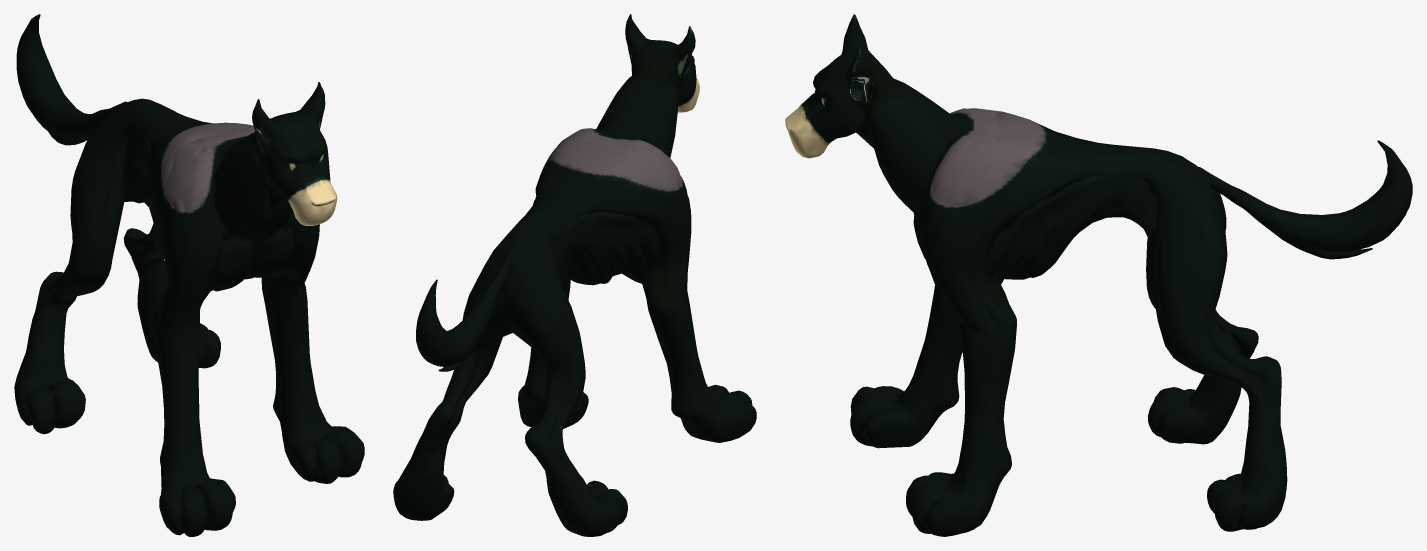
Rendered from body.glb.
3 views of the same model, side by side, from view 1: azimuth 30°, elevation 25°; view 2: azimuth 150°, elevation 25°; view 3: azimuth 270°, elevation 25° (orthographic). The views are drawn at different scales.
Visible parts, largest first — view 1: hound; view 2: hound; view 3: hound.
Boxes of the visible parts, x1,y1,x2,y2 form: hound: [14, 14, 364, 536]; hound: [393, 14, 756, 536]; hound: [785, 14, 1412, 536].
Bounding box in the file's own units: 1.02 × 1.87 × 2.33.
1 material, 1 textured.
